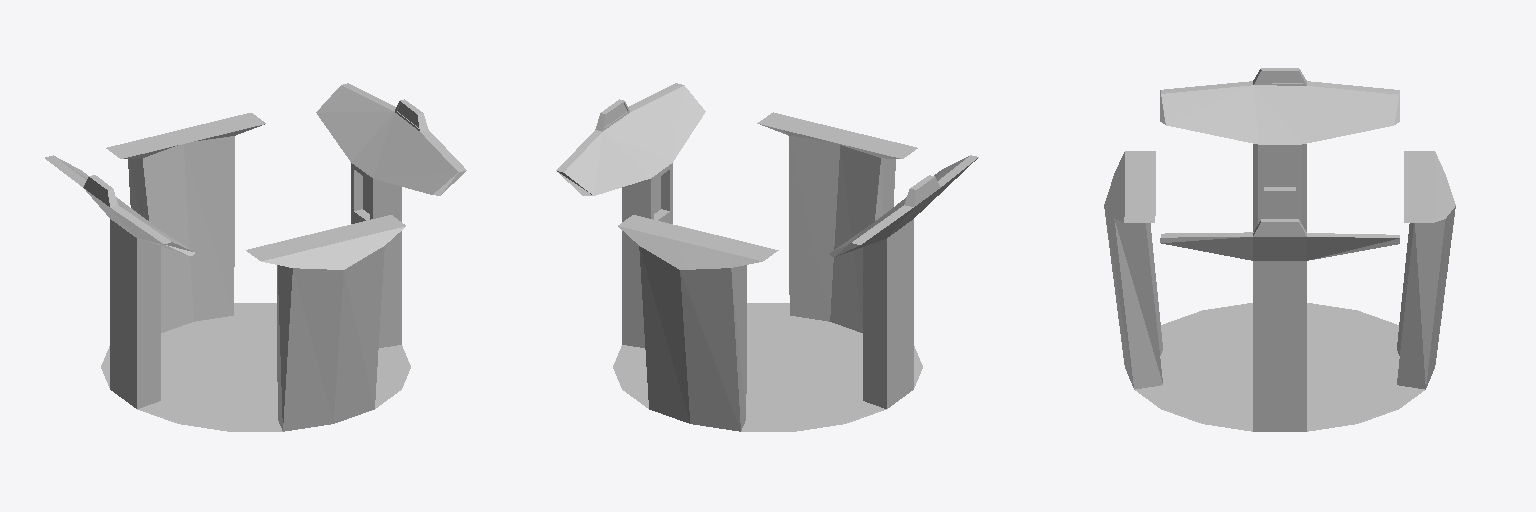
The model's file is CommandCenter_solo_uw.obj.
3 views of the same model, side by side, from view 1: azimuth 30°, elevation 25°; view 2: azimuth 150°, elevation 25°; view 3: azimuth 270°, elevation 25° (orthographic).
Parts seen in each view (by area): view 1: Disc; view 2: Disc; view 3: Disc.
Boxes of the visible parts, box(x1,y1,x2,y2) form: Disc: box(45, 83, 466, 431); Disc: box(556, 83, 978, 431); Disc: box(1104, 68, 1455, 431).
Bounding box in the file's own units: 178 × 119 × 170.